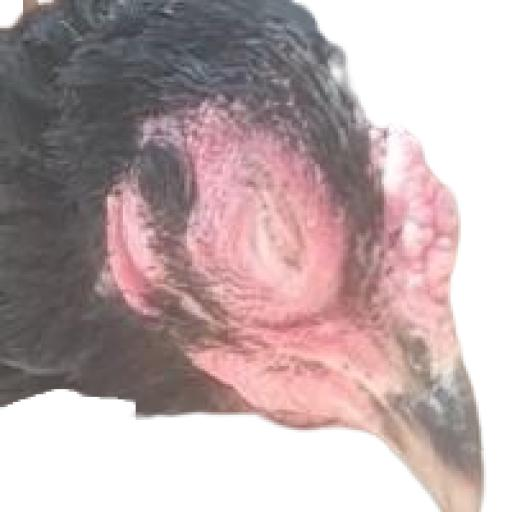disease: (366, 118, 473, 351), (214, 131, 338, 322)
